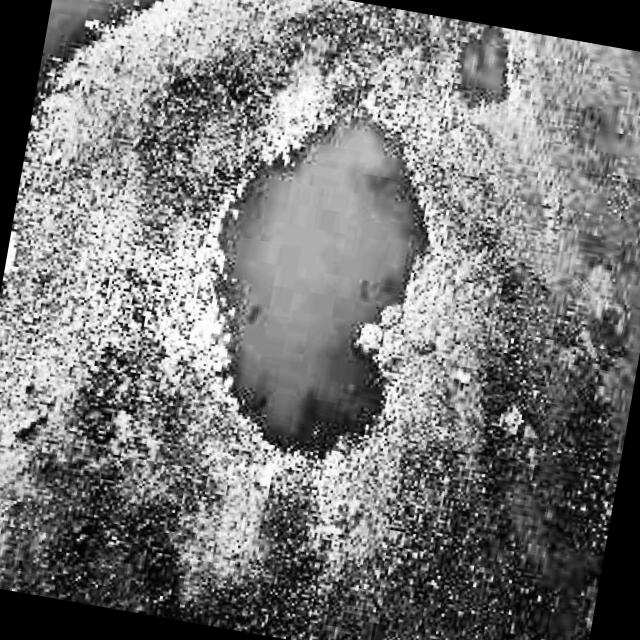Pothole: (156, 49, 473, 490), (31, 0, 230, 143)
